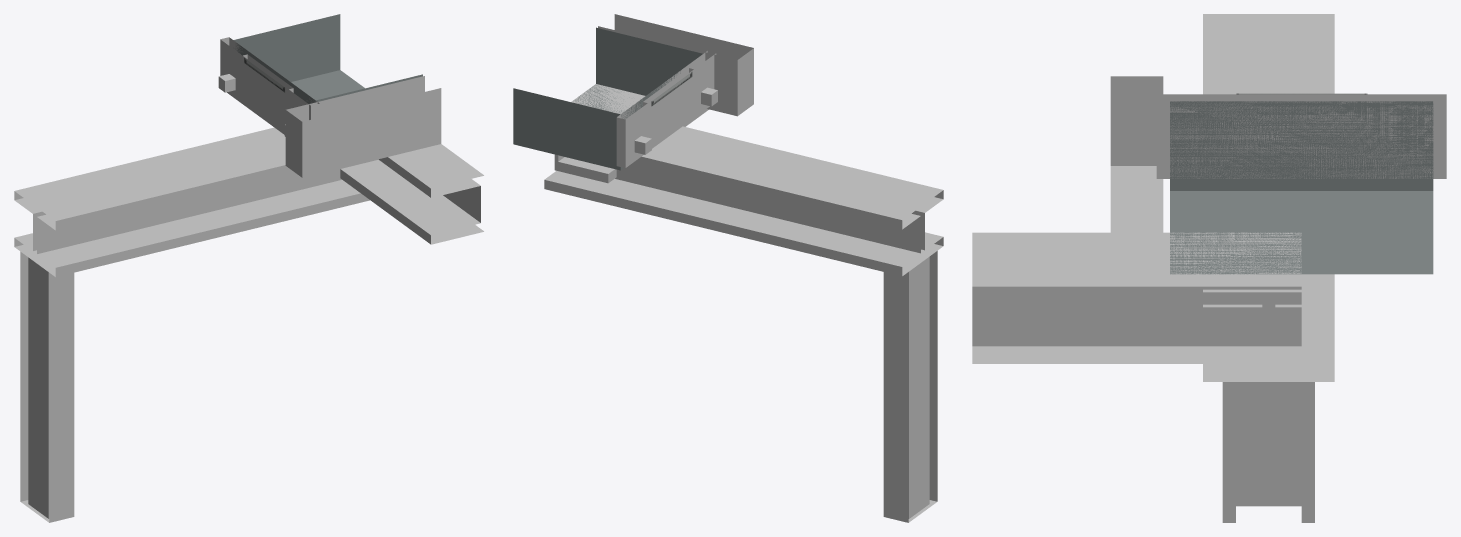
The model's file is cell_2.obj.
3 views of the same model, side by side, from view 1: azimuth 30°, elevation 25°; view 2: azimuth 150°, elevation 25°; view 3: azimuth 270°, elevation 25° (orthographic). The views are drawn at different scales.
Bounding box in the file's own units: 1 × 1 × 0.72.
